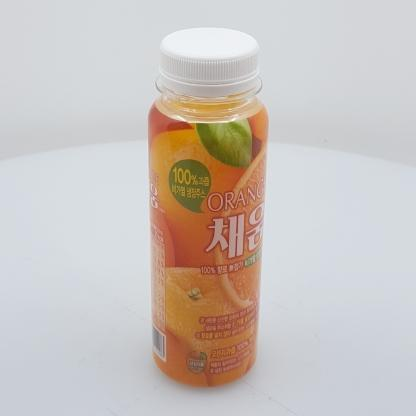--------210ML: (148, 27, 269, 387)
